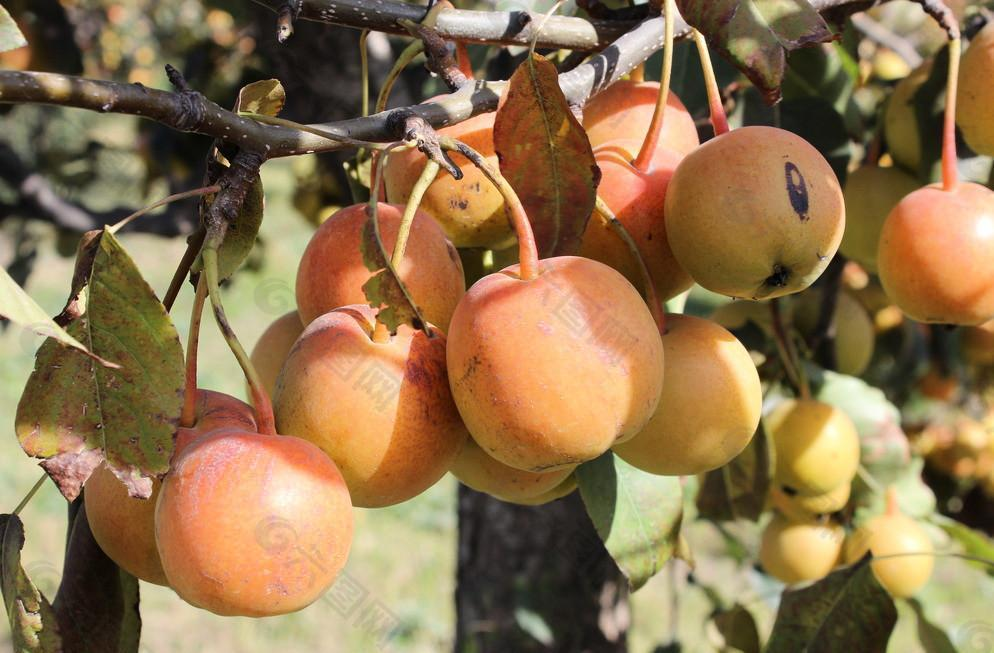apple: (449, 248, 659, 471), (275, 302, 469, 506), (149, 422, 351, 616), (662, 123, 854, 300), (616, 315, 764, 478), (301, 201, 455, 334), (874, 174, 994, 326)
